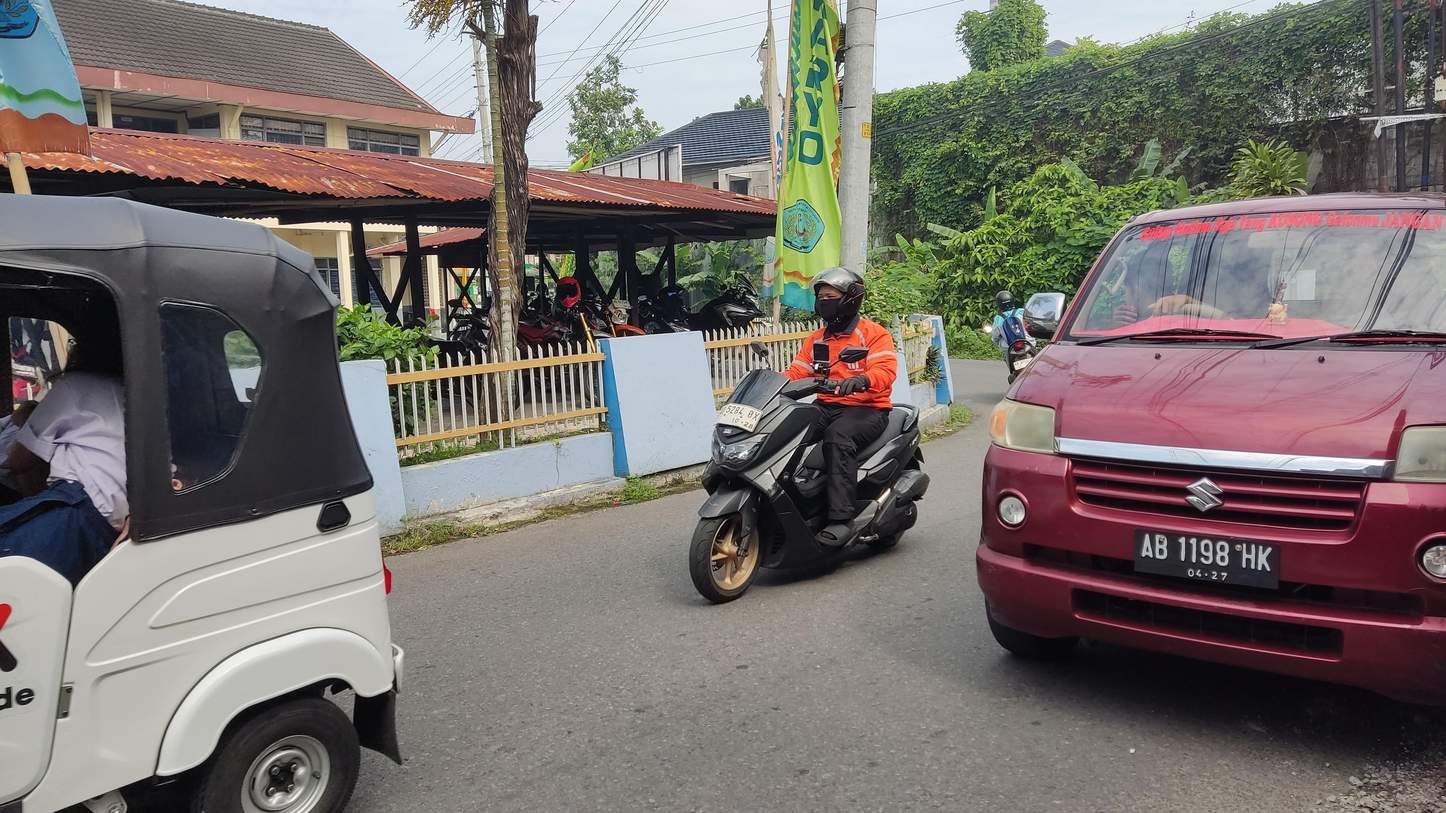helm: (809, 266, 871, 330)
riding: (680, 265, 933, 611)
